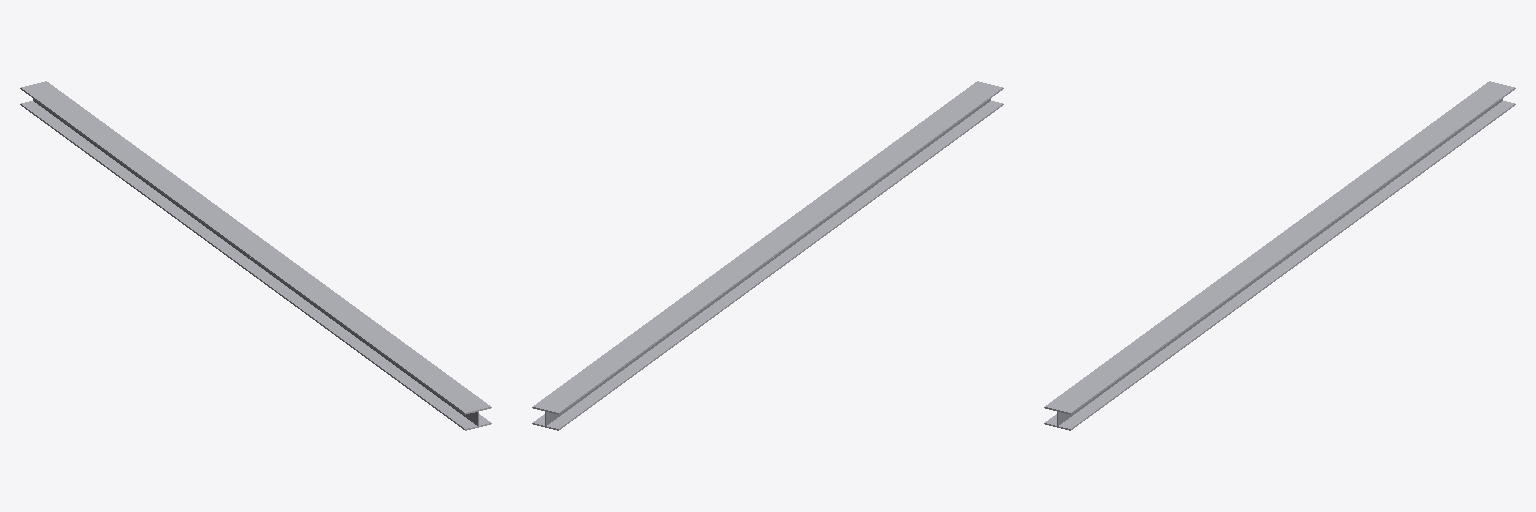
robot.urdf — h_bar:
<?xml version="1.0" ?>
<!-- =================================================================================== -->
<!-- |    This document was autogenerated by xacro from h_bar.xacro                    | -->
<!-- |    EDITING THIS FILE BY HAND IS NOT RECOMMENDED                                 | -->
<!-- =================================================================================== -->
<robot name="h_bar">
  <link name="world"/>
  <!-- Bottom leg (aligned with z-axis after rotation, below origin) -->
  <link name="hbar_bottom_leg">
    <visual>
      <origin rpy="0 1.57079633 0" xyz="0 0 0"/>
      <geometry>
        <!-- thickness x, profile width y, leg length along local z -->
        <box size="0.01 5.0 0.17"/>
      </geometry>
      <material name="hbar_material_bottom">
        <!-- Brushed steel-like gray -->
        <color rgba="0.75 0.75 0.78 1.0"/>
      </material>
    </visual>
    <collision>
      <origin rpy="0 1.57079633 0" xyz="0 0 0"/>
      <geometry>
        <box size="0.01 5.0 0.17"/>
      </geometry>
    </collision>
    <inertial>
      <origin rpy="0 0 0" xyz="0 0 0"/>
      <mass value="0.3333333333333333"/>
      <inertia ixx="0.6952472222222222" ixy="0.0" ixz="0.0" iyy="0.0008055555555555557" iyz="0.0" izz="0.6944472222222222"/>
    </inertial>
  </link>
  <!-- Top leg (aligned with z-axis after rotation, above origin) -->
  <link name="hbar_top_leg">
    <visual>
      <origin rpy="0 1.57079633 0" xyz="0 0 0"/>
      <geometry>
        <box size="0.01 5.0 0.17"/>
      </geometry>
      <material name="hbar_material_top">
        <!-- Brushed steel-like gray -->
        <color rgba="0.75 0.75 0.78 1.0"/>
      </material>
    </visual>
    <collision>
      <origin rpy="0 1.57079633 0" xyz="0 0 0"/>
      <geometry>
        <box size="0.01 5.0 0.17"/>
      </geometry>
    </collision>
    <inertial>
      <origin rpy="0 0 0" xyz="0 0 0"/>
      <mass value="0.3333333333333333"/>
      <inertia ixx="0.6952472222222222" ixy="0.0" ixz="0.0" iyy="0.0008055555555555557" iyz="0.0" izz="0.6944472222222222"/>
    </inertial>
  </link>
  <!-- Crossbar: vertical (aligned with z-axis) at the origin -->
  <link name="hbar_crossbar">
    <visual>
      <!-- Thickness in x,y, length in z -->
      <origin rpy="0 0 0" xyz="0 0 0"/>
      <geometry>
        <box size="0.01 5.0 0.1"/>
      </geometry>
      <material name="hbar_material_cross">
        <!-- Slightly darker steel for visual contrast -->
        <color rgba="0.65 0.65 0.7 1.0"/>
      </material>
    </visual>
    <collision>
      <origin rpy="0 0 0" xyz="0 0 0"/>
      <geometry>
        <box size="0.01 5.0 0.1"/>
      </geometry>
    </collision>
    <inertial>
      <origin rpy="0 0 0" xyz="0 0 0"/>
      <mass value="0.3333333333333333"/>
      <inertia ixx="0.6947222222222222" ixy="0.0" ixz="0.0" iyy="0.0002805555555555556" iyz="0.0" izz="0.6944472222222222"/>
    </inertial>
  </link>
  <!-- Fix crossbar to world; its center is at the macro pose -->
  <joint name="hbar_cross_fix" type="fixed">
    <parent link="world"/>
    <child link="hbar_crossbar"/>
    <origin rpy="0 0 0" xyz="0 0 0"/>
  </joint>
  <!-- Top leg: translated +L_leg/2 in x and +L_span/2 in z relative to crossbar -->
  <joint name="hbar_top_fix" type="fixed">
    <parent link="hbar_crossbar"/>
    <child link="hbar_top_leg"/>
    <origin rpy="0 0.0 0" xyz="0 0 0.05"/>
  </joint>
  <!-- Bottom leg: translated +L_leg/2 in x and -L_span/2 in z relative to crossbar -->
  <joint name="hbar_bottom_fix" type="fixed">
    <parent link="hbar_crossbar"/>
    <child link="hbar_bottom_leg"/>
    <origin rpy="0 0 0" xyz="0 0 -0.05"/>
  </joint>
</robot>

--- Facts derived from the render (not from the file) ---
The picture shows the robot from 3 angles, left to right: view 1: azimuth 30°, elevation 25°; view 2: azimuth 150°, elevation 25°; view 3: azimuth 330°, elevation 25°; orthographic projection.
Robot: h_bar — 4 links, 3 joints (3 fixed); root link world; default pose: all joints at 0.
Links seen in each view (by area): view 1: hbar_top_leg, hbar_bottom_leg, hbar_crossbar; view 2: hbar_top_leg, hbar_bottom_leg, hbar_crossbar; view 3: hbar_top_leg, hbar_bottom_leg, hbar_crossbar.
Link boxes in pixels (x1,y1,x2,y2): hbar_top_leg: [20, 81, 491, 414]; hbar_bottom_leg: [20, 101, 491, 430]; hbar_crossbar: [33, 99, 478, 425]; hbar_top_leg: [532, 81, 1003, 414]; hbar_bottom_leg: [532, 101, 1003, 430]; hbar_crossbar: [545, 99, 990, 425]; hbar_top_leg: [1044, 81, 1515, 414]; hbar_bottom_leg: [1044, 101, 1515, 430]; hbar_crossbar: [1057, 99, 1502, 425].
Size in the robot's own frame: 0.17 by 5 by 0.11 metres.
Geometry: primitives only (box / cylinder / sphere), no mesh files.
